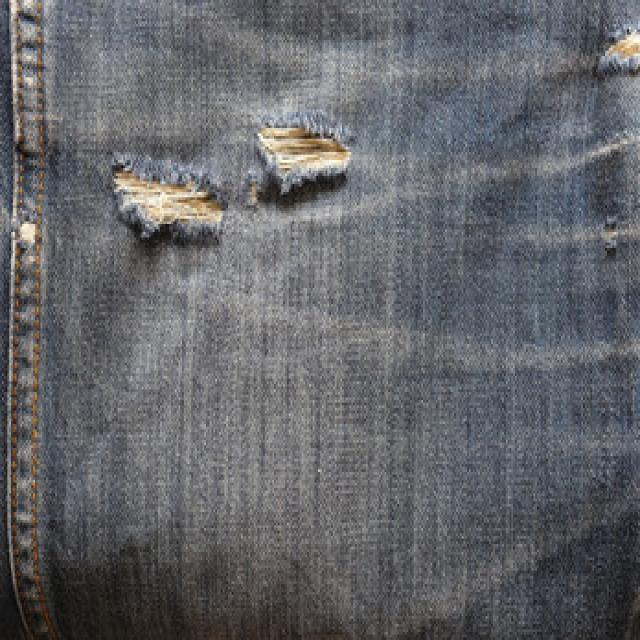Hole: (113, 168, 223, 238), (113, 169, 223, 238), (257, 127, 351, 194), (603, 31, 638, 72)
